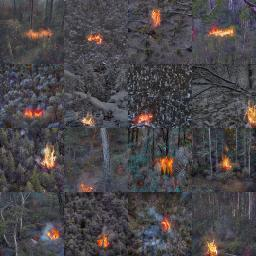Small fire: (35, 143, 59, 173), (206, 26, 237, 41), (23, 26, 53, 41), (158, 157, 177, 179), (20, 105, 46, 121), (130, 112, 155, 128), (148, 8, 164, 29), (85, 31, 105, 45), (245, 105, 256, 130), (78, 113, 95, 128), (220, 155, 234, 173), (46, 226, 61, 242), (96, 233, 111, 249), (158, 217, 173, 233), (205, 240, 220, 256), (78, 180, 95, 192)
